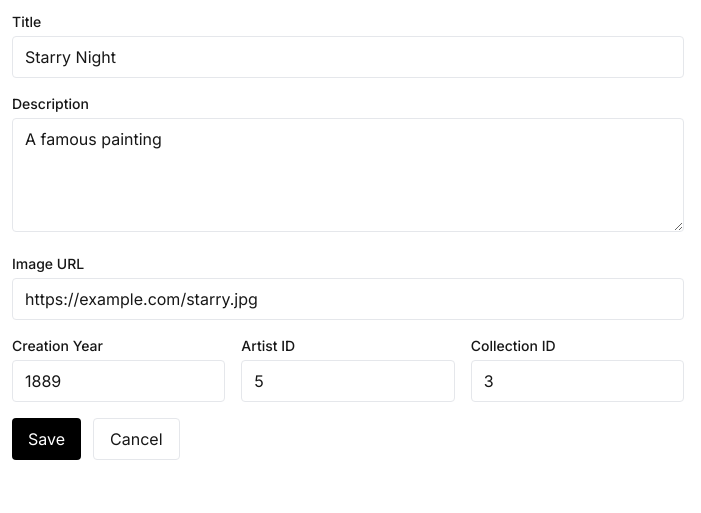
Test: ArtworkEditForm › displays an error message when the API returns an error
This screenshot has width=701, height=513.
Click the button "Save".
click(46, 439)  # box left=12, top=418, right=81, bottom=460
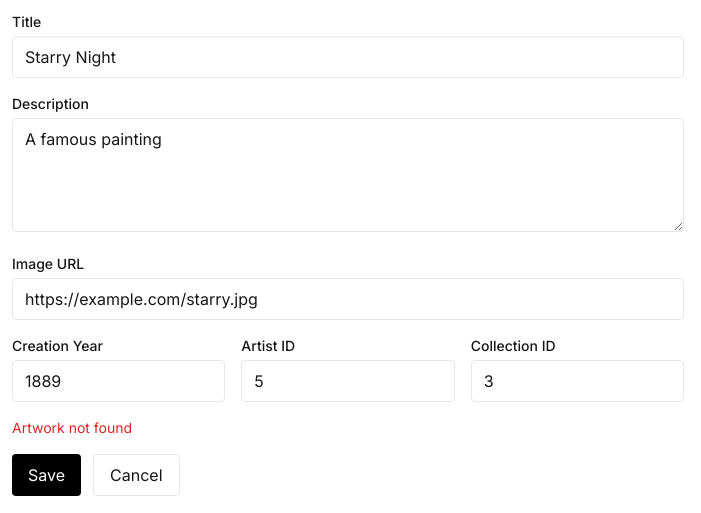
expect the text "Artwork not found" is shown: met, box left=12, top=419, right=132, bottom=436
